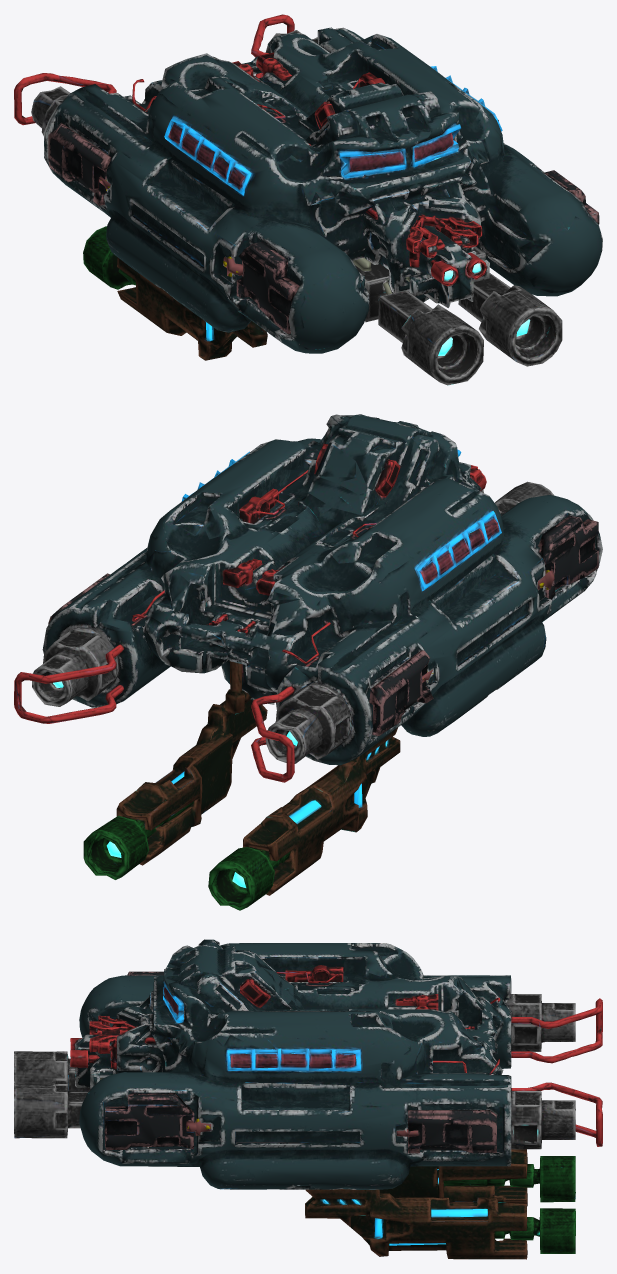
3 renders of one model, top to bottom at view 1: azimuth 30°, elevation 25°; view 2: azimuth 150°, elevation 25°; view 3: azimuth 270°, elevation 25°, orthographic. The views are drawn at different scales.
Visible parts, largest first — view 1: uvlayout1; view 2: uvlayout1; view 3: uvlayout1.
Part boxes in pixels (bbox=[...]): uvlayout1: bbox=[14, 14, 602, 385]; uvlayout1: bbox=[14, 414, 602, 910]; uvlayout1: bbox=[14, 939, 602, 1259].
Bounding box in the file's own units: 1.14 × 1.03 × 2.
Materials: 1 (1 with a texture image).
